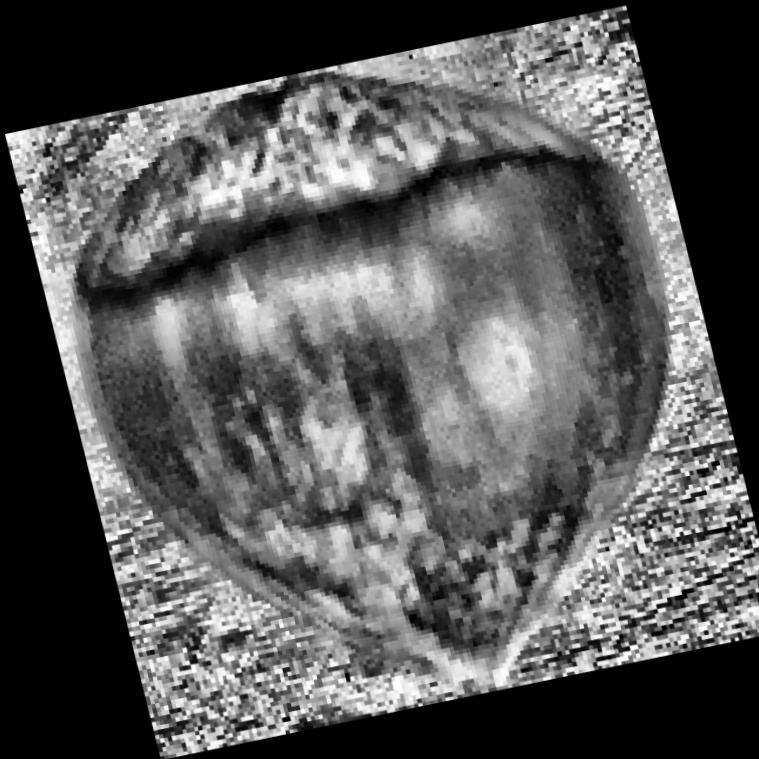qualityHazelnut: (4, 0, 759, 759)
